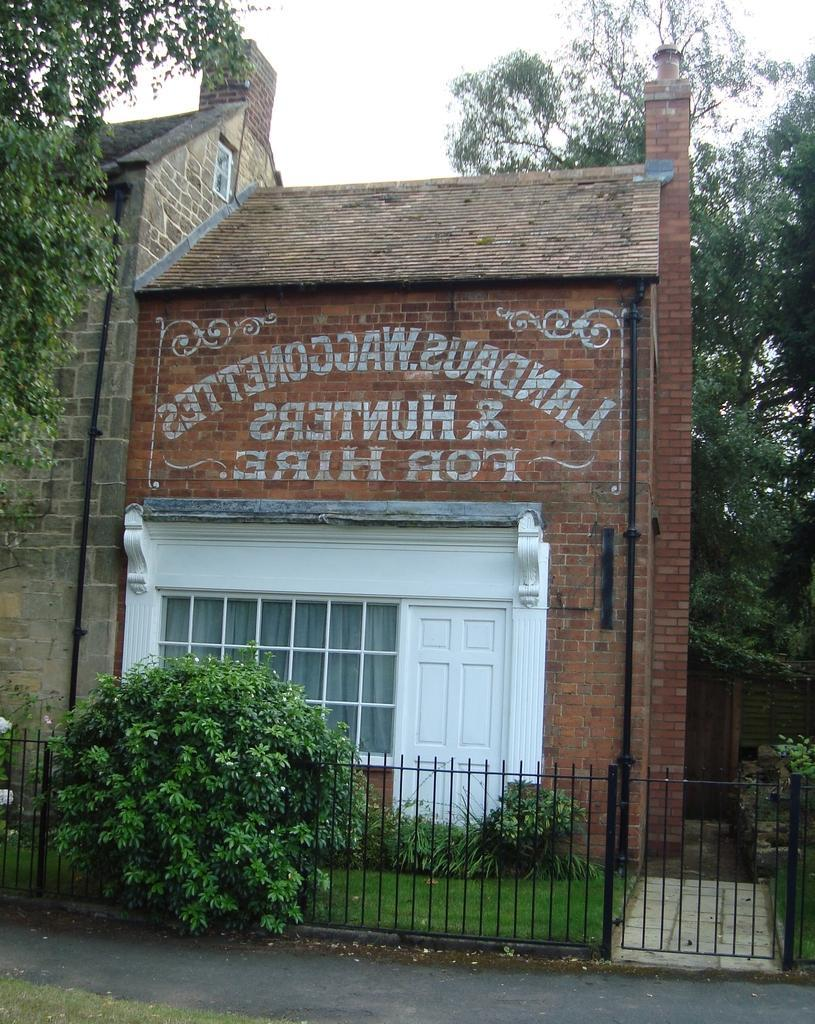door: (410, 612, 507, 812)
